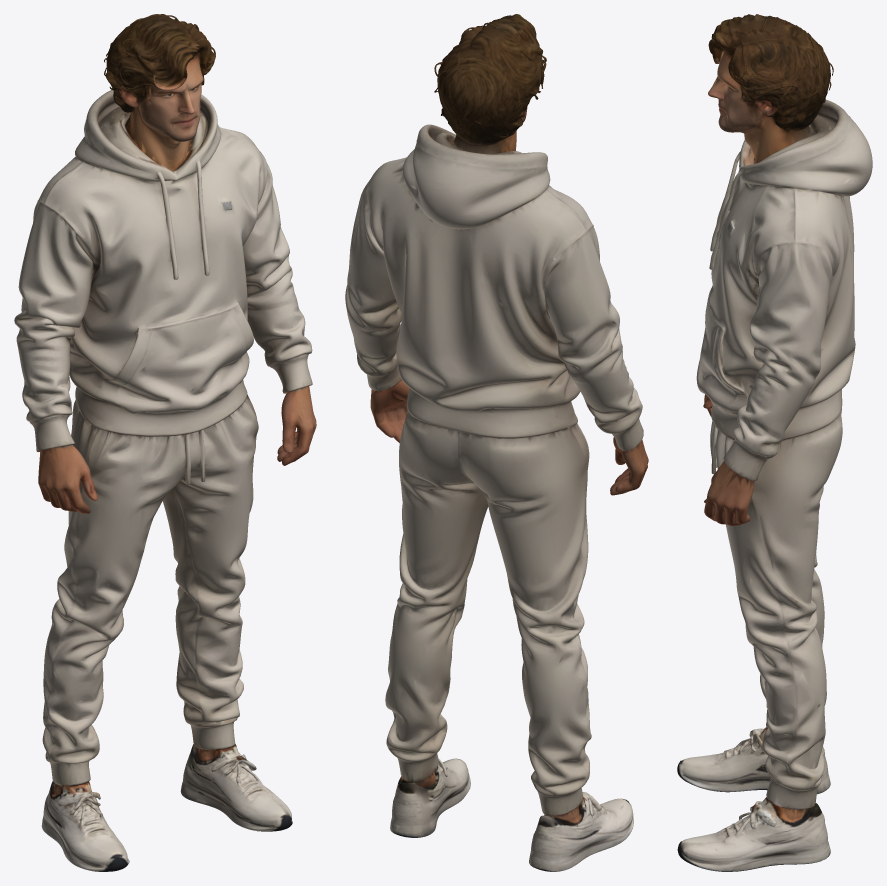
Rendered from ivory-standard-athlete-v1.glb.
3 views of the same model, side by side, from view 1: azimuth 30°, elevation 25°; view 2: azimuth 150°, elevation 25°; view 3: azimuth 270°, elevation 25° (orthographic).
Visible parts, largest first — view 1: node_0; view 2: node_0; view 3: node_0.
Boxes of the visible parts, x1,y1,x2,y2 form: node_0: (14, 14, 316, 871); node_0: (345, 14, 648, 871); node_0: (677, 14, 872, 871).
Size of the model in its own units: 0.4197 by 1.15 by 0.2524.
1 material, 1 textured.
